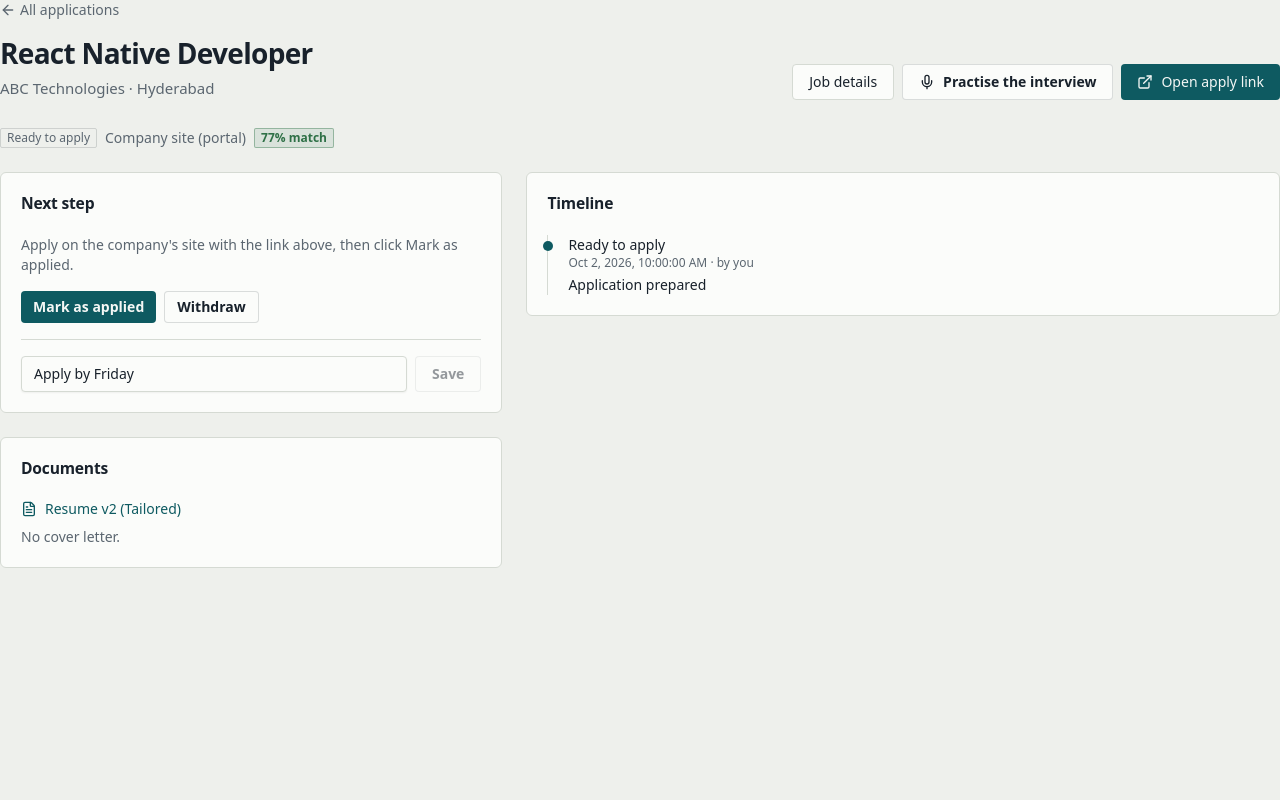
Scenario: ApplicationDetailPage › offers only allowed moves, asks for a note and shows the timeline
Click the button "Mark as applied" at (89, 307), box [21,291,156,323]
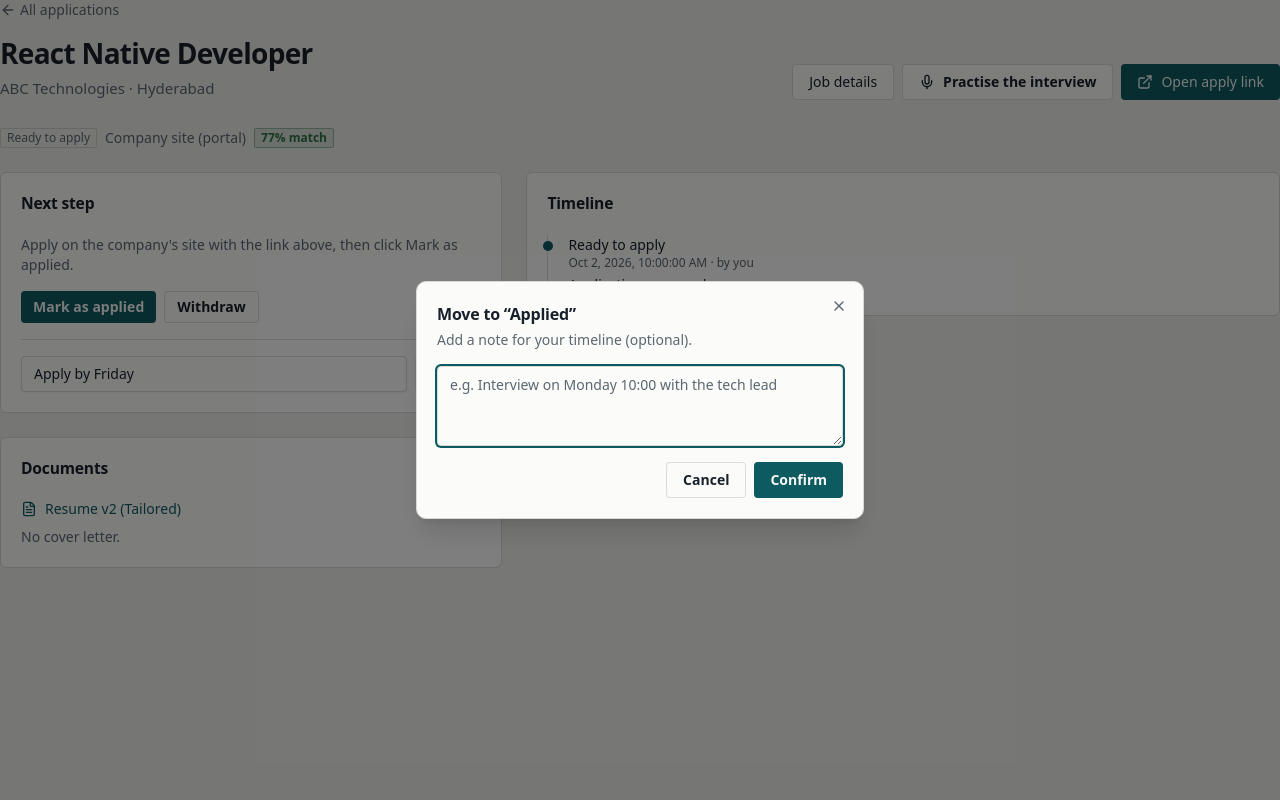
Type "Applied on the careers page" into the text box named "Note" at (640, 406), box [437,366,843,446]
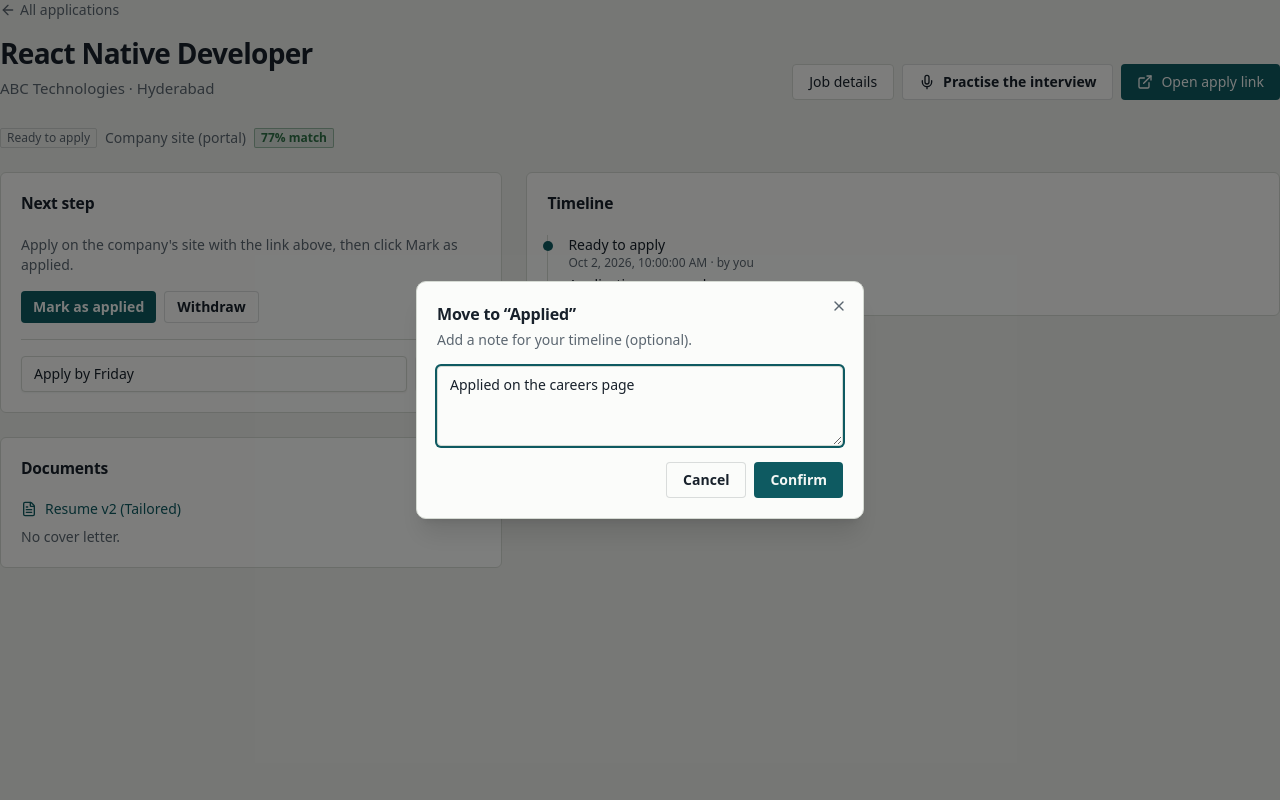
Click the button "Confirm" at (799, 480), box [754,462,843,498]
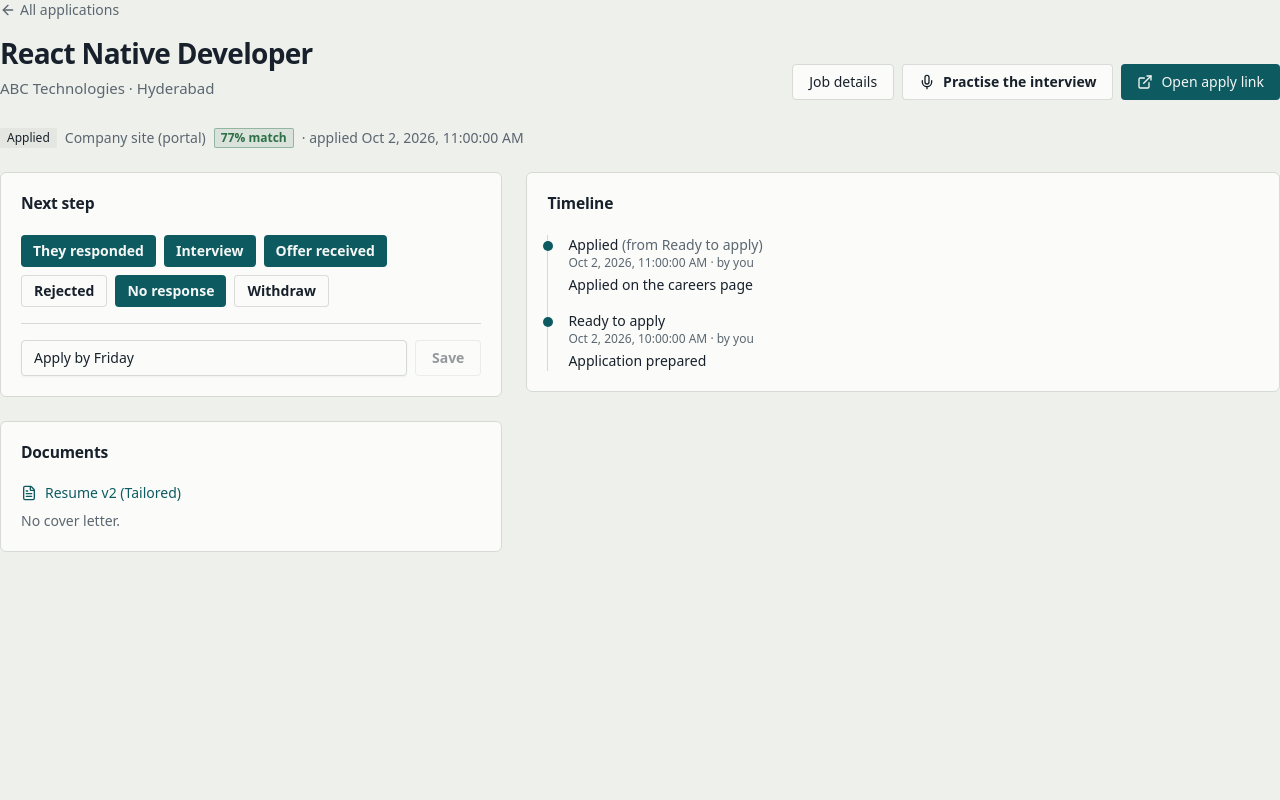
expect the text "Applied on the careers page" is shown: met, box [568,275,753,294]
expect the button "Interview" is shown: met, box [164,235,256,267]
